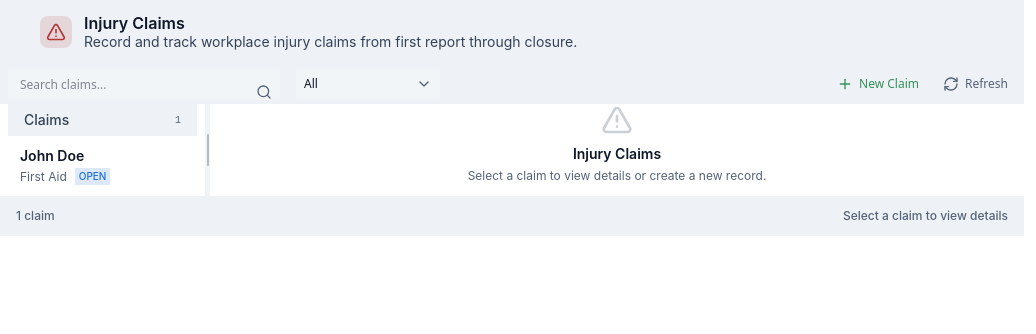
SafetyInjuryClaimsPage - Open Claim › disables Open button when claim is not DRAFT
The width and height of the screenshot is (1036, 334).
Click the text "John Doe".
click(52, 156)  # box [20, 147, 84, 164]
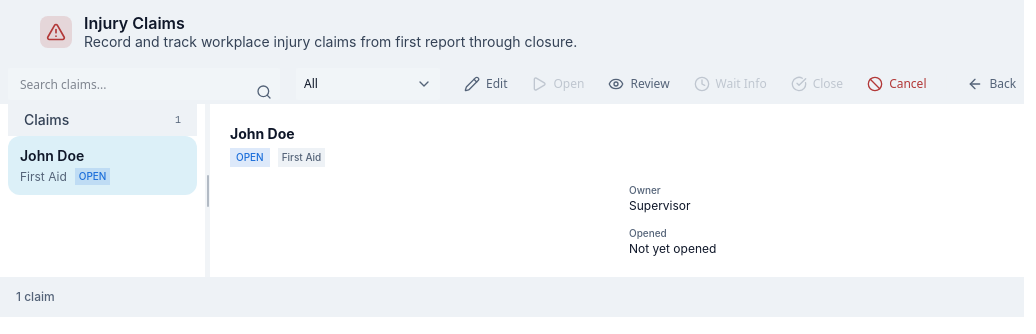
Expected: the button "Open" is disabled, [524, 68, 592, 100]
